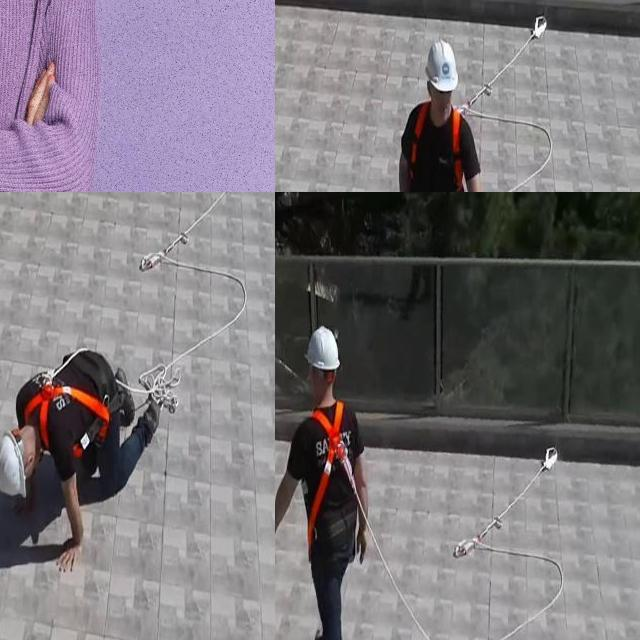Harness: (133, 192, 248, 414), (454, 448, 565, 640), (464, 16, 548, 108), (308, 401, 356, 550), (25, 386, 110, 450)
